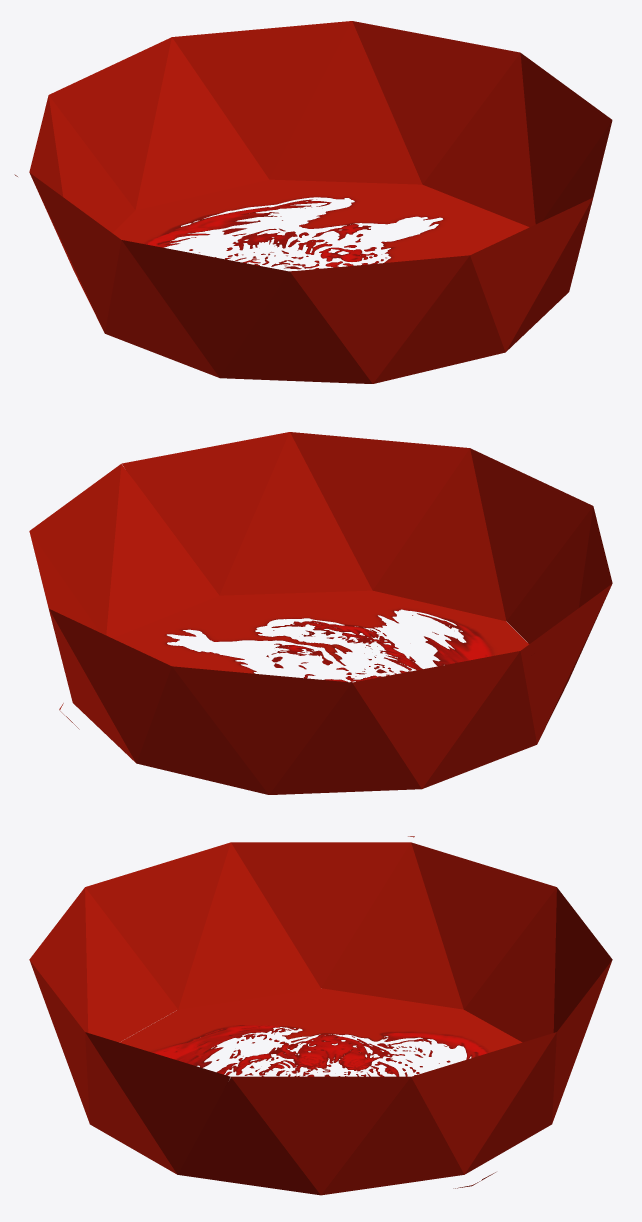
The model's file is DiceTray.fbx.
3 views of the same model, one above another, from view 1: azimuth 30°, elevation 25°; view 2: azimuth 150°, elevation 25°; view 3: azimuth 270°, elevation 25° (orthographic). The views are drawn at different scales.
Parts seen in each view (by area): view 1: ICO球.001; view 2: ICO球.001; view 3: ICO球.001.
Part boxes in pixels (left/top/right/bottom): ICO球.001: left=14, top=21, right=612, bottom=383; ICO球.001: left=29, top=432, right=612, bottom=794; ICO球.001: left=29, top=836, right=612, bottom=1195.
Size of the model in its own units: 1.9 by 0.5037 by 2.
Materials: 1 (1 with a texture image).
